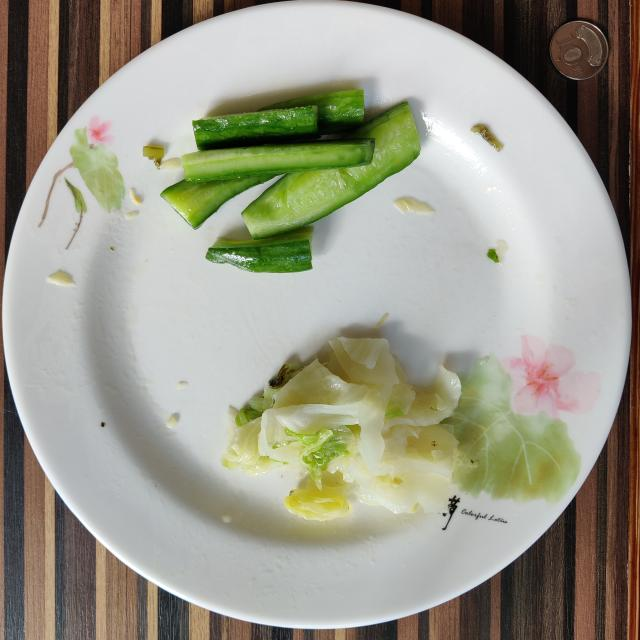cabbage: (221, 336, 461, 520)
coin: (550, 21, 609, 80)
cucumber: (161, 90, 420, 272)
